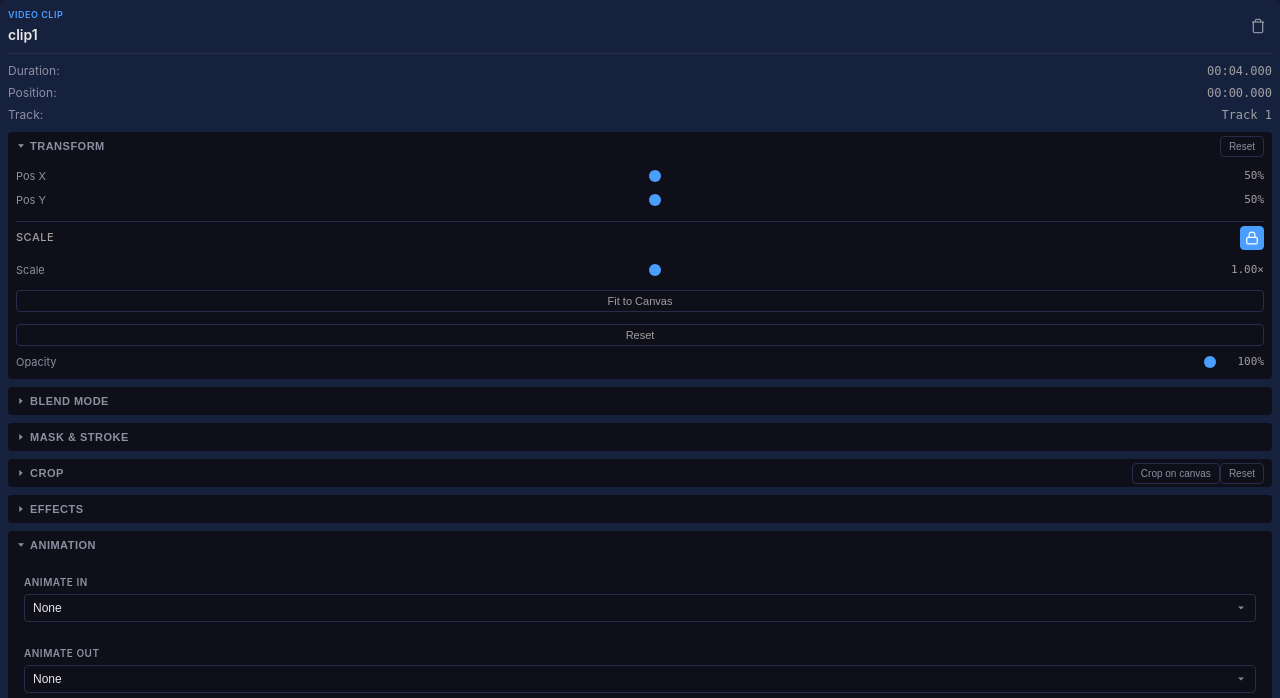
Test case: ClipEditor › blend mode and effects › reads a missing effects object as no blur
Step 1. Click the button "Effects" → point(57, 508), box x1=8 y1=494 x2=1264 y2=522
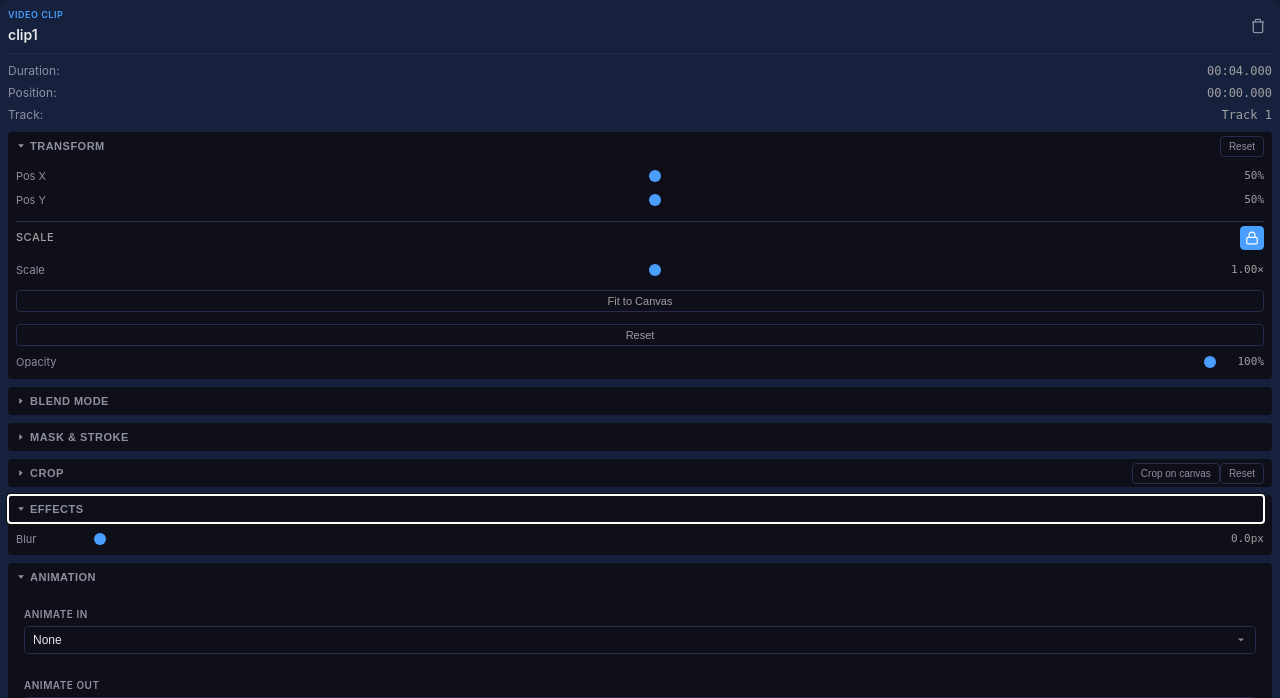
Expected: the slider labelled "Blur" holds "0", x1=94 y1=537 x2=1216 y2=541
Expected: the text "0.0px" is shown, x1=1231 y1=532 x2=1264 y2=544
